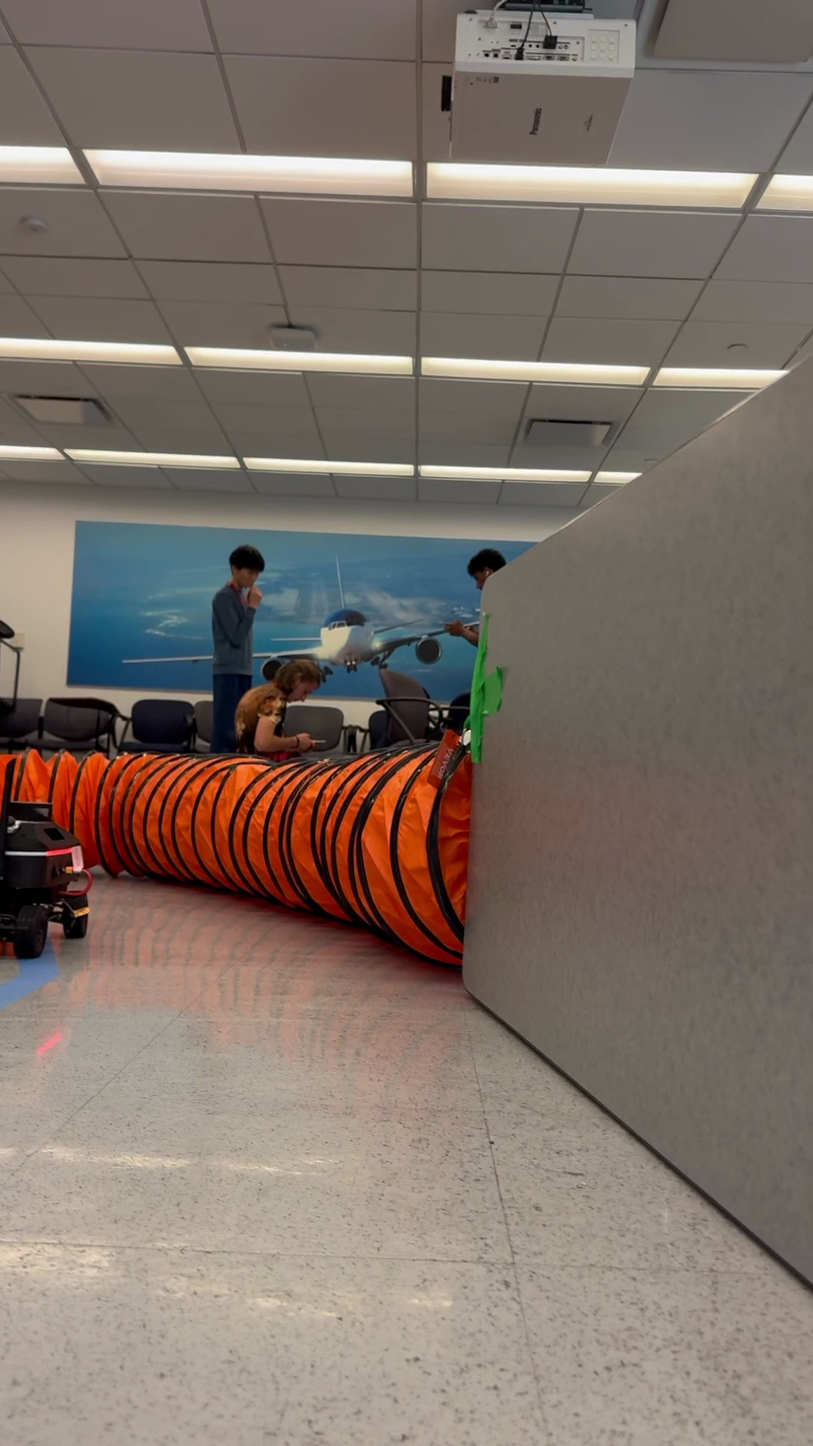racecar: (2, 794, 96, 959)
